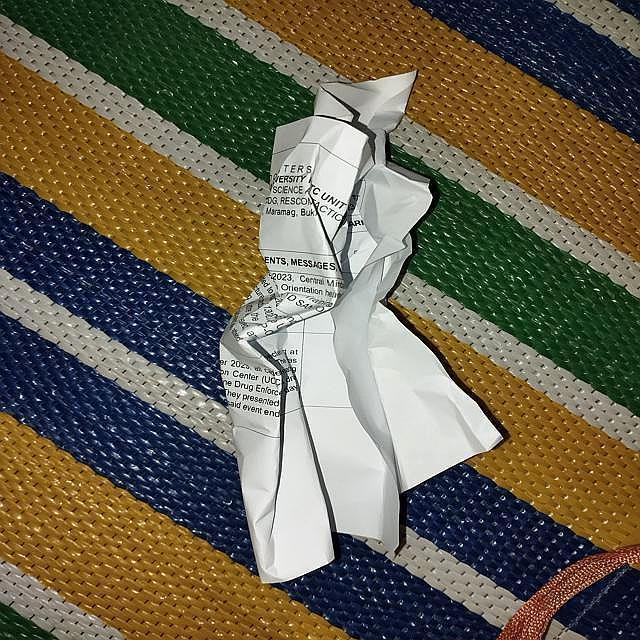Biodegradable: (221, 69, 505, 584)
